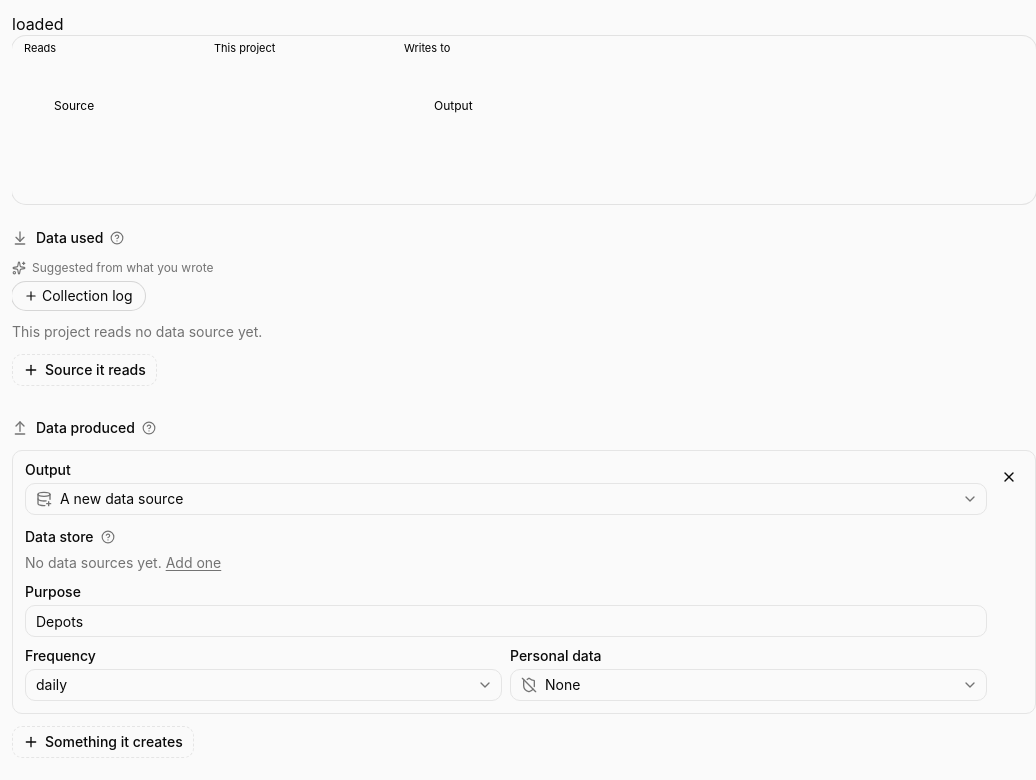
Test: a suggested data source › adds the line it reads, then stops suggesting it
expect the text "loaded" is shown: met, box [12, 14, 64, 34]
What coordinates should you click on to do the following:
click the button "Collection log"
I would click on:
 (78, 296)
Its box is [12, 282, 144, 310].
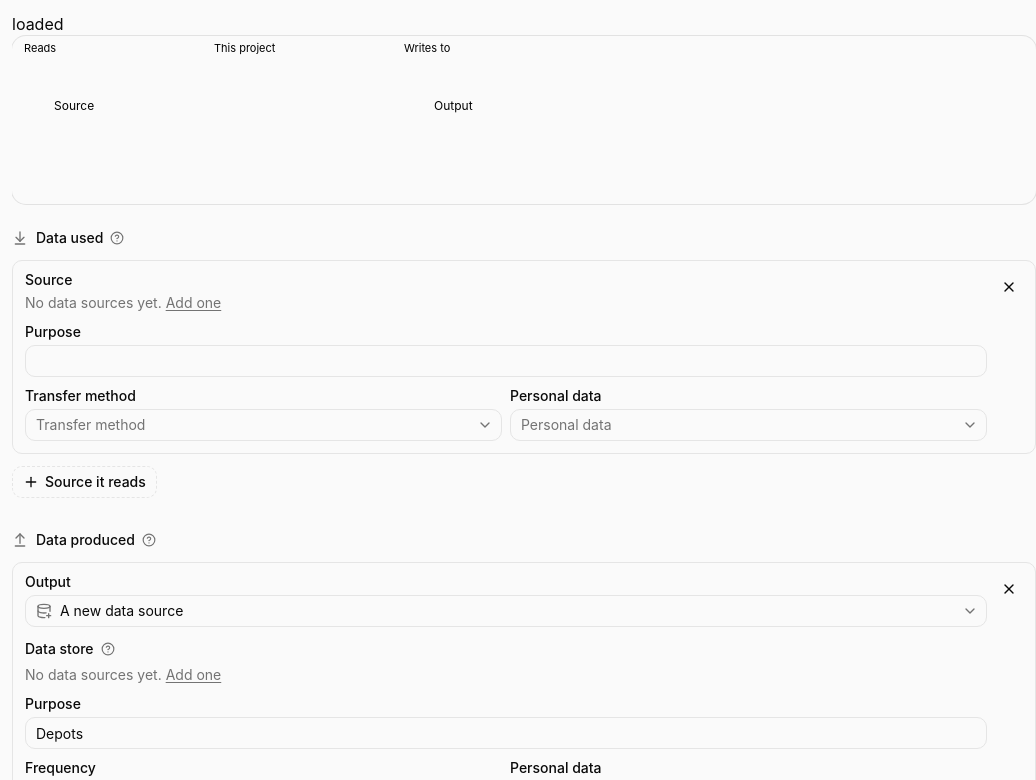
expect the button "Collection log" is gone: met
